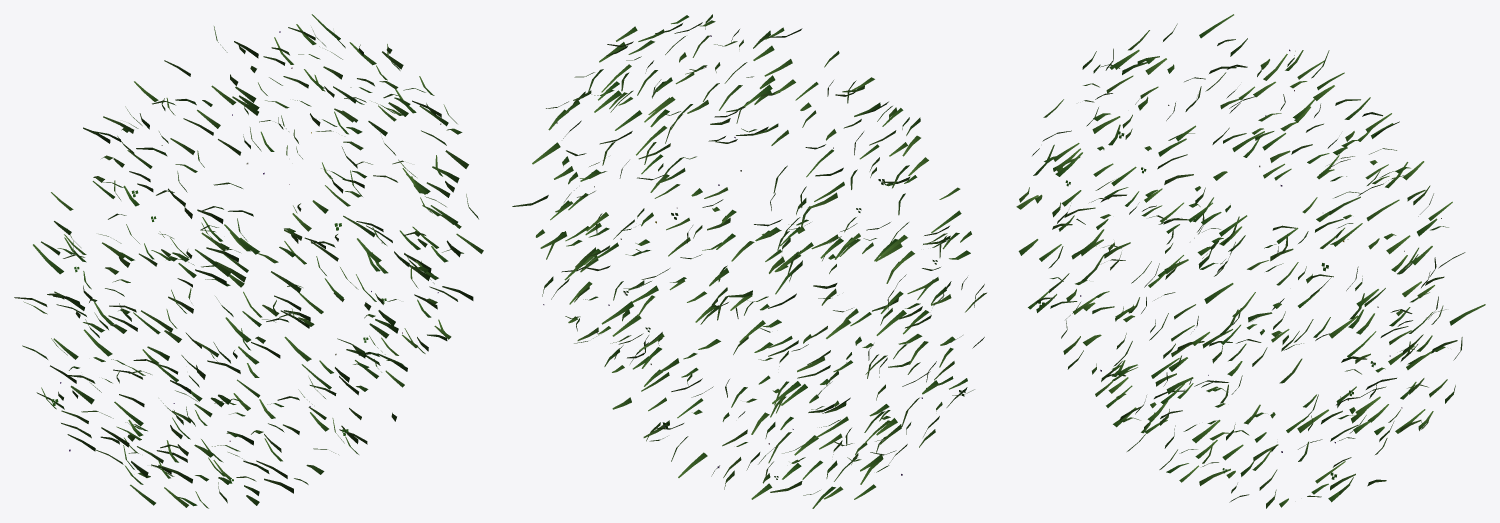
Rendered from Grass_Tile_Ramble.glb.
3 views of the same model, side by side, from view 1: azimuth 30°, elevation 25°; view 2: azimuth 150°, elevation 25°; view 3: azimuth 330°, elevation 25° (orthographic).
Parts seen in each view (by area): view 1: Grass_Tile_Ramble; view 2: Grass_Tile_Ramble; view 3: Grass_Tile_Ramble.
Boxes of the visible parts, x1,y1,x2,y2 form: Grass_Tile_Ramble: (14,14,483,508); Grass_Tile_Ramble: (512,14,986,508); Grass_Tile_Ramble: (1016,14,1485,508).
Size of the model in its own units: 1.63 by 1.61 by 0.1923.
